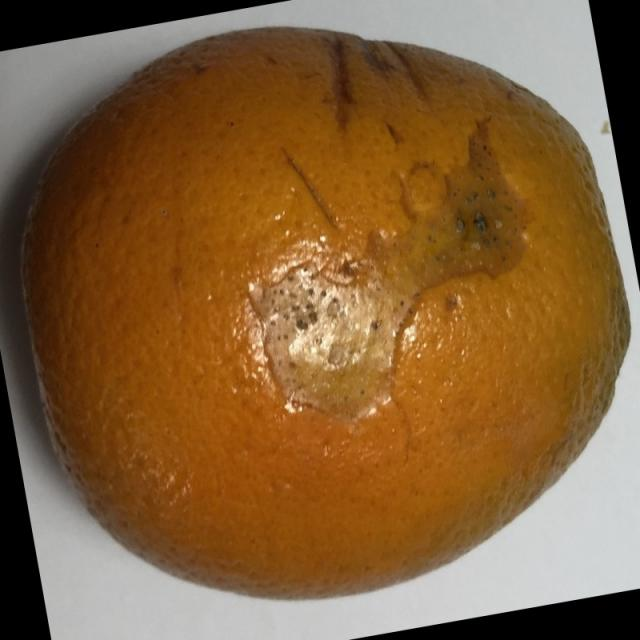canker: (8, 14, 628, 630)
